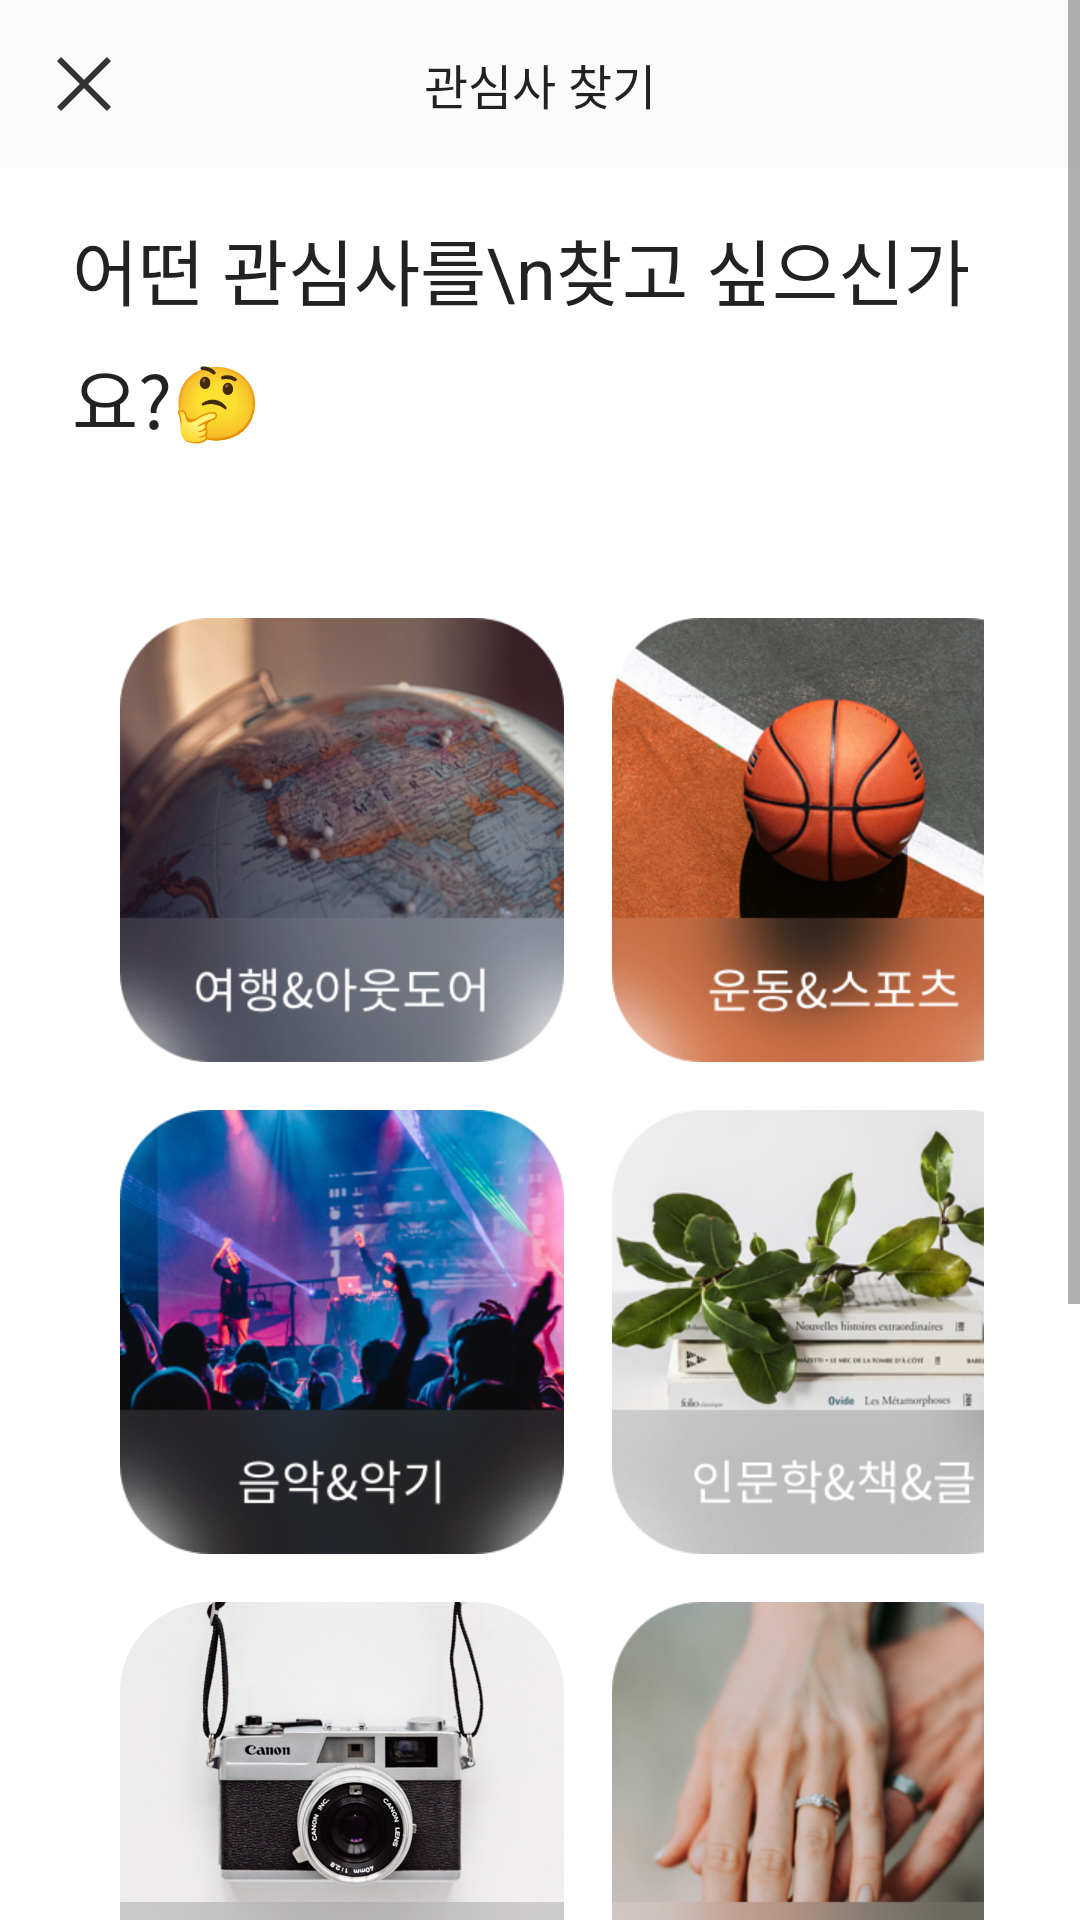

Icons on this 1080px x 1920px Android screen, each with its box as (x1, y1, x2, y2):
close: (57, 57, 111, 111)
